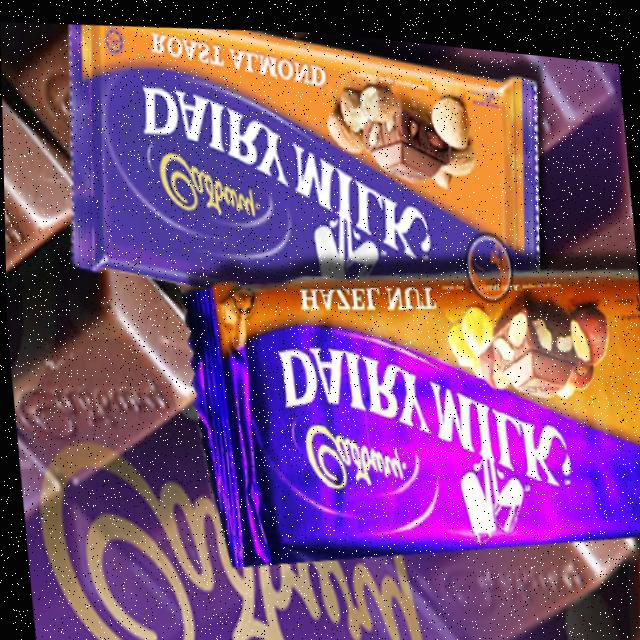cadbury: (207, 238, 640, 585), (69, 6, 544, 288), (5, 265, 202, 491)
